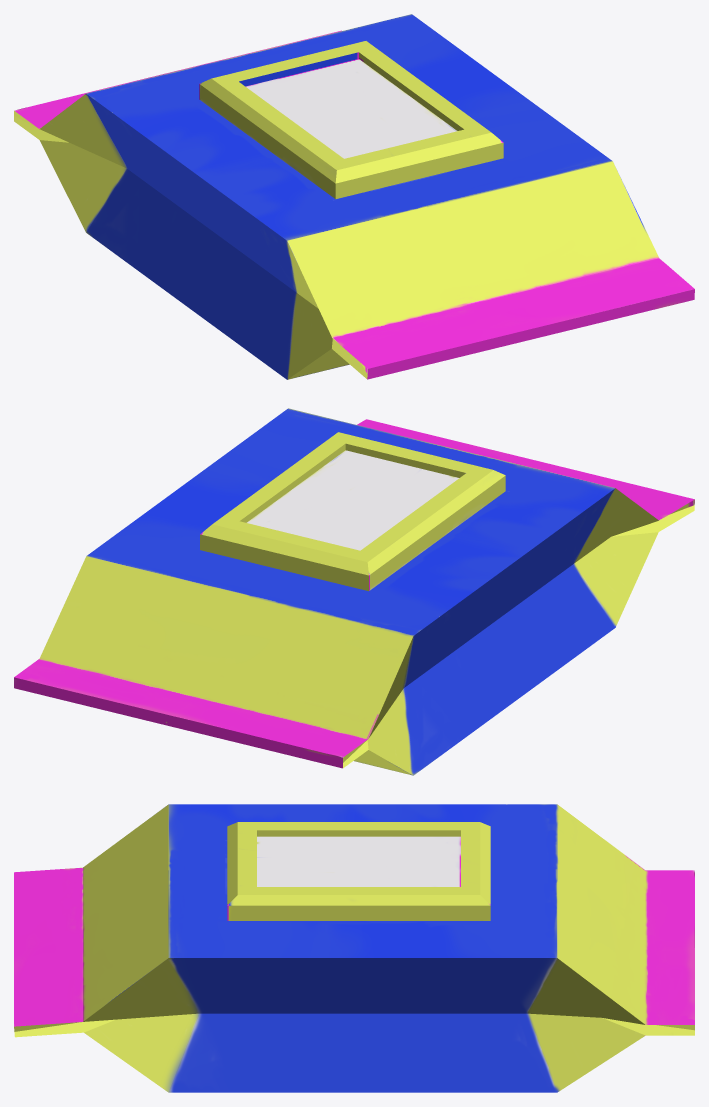
File: Wipes.glb
3 renders of one model, top to bottom at view 1: azimuth 30°, elevation 25°; view 2: azimuth 150°, elevation 25°; view 3: azimuth 270°, elevation 25°, orthographic. The views are drawn at different scales.
Parts seen in each view (by area): view 1: Cube; view 2: Cube; view 3: Cube.
Part boxes in pixels (x1,y1,x2,y2): Cube: (14,14,694,379); Cube: (14,408,694,775); Cube: (14,804,694,1092).
Bounding box in the file's own units: 3.17 × 1.5 × 5.89.
1 material, 1 textured.
